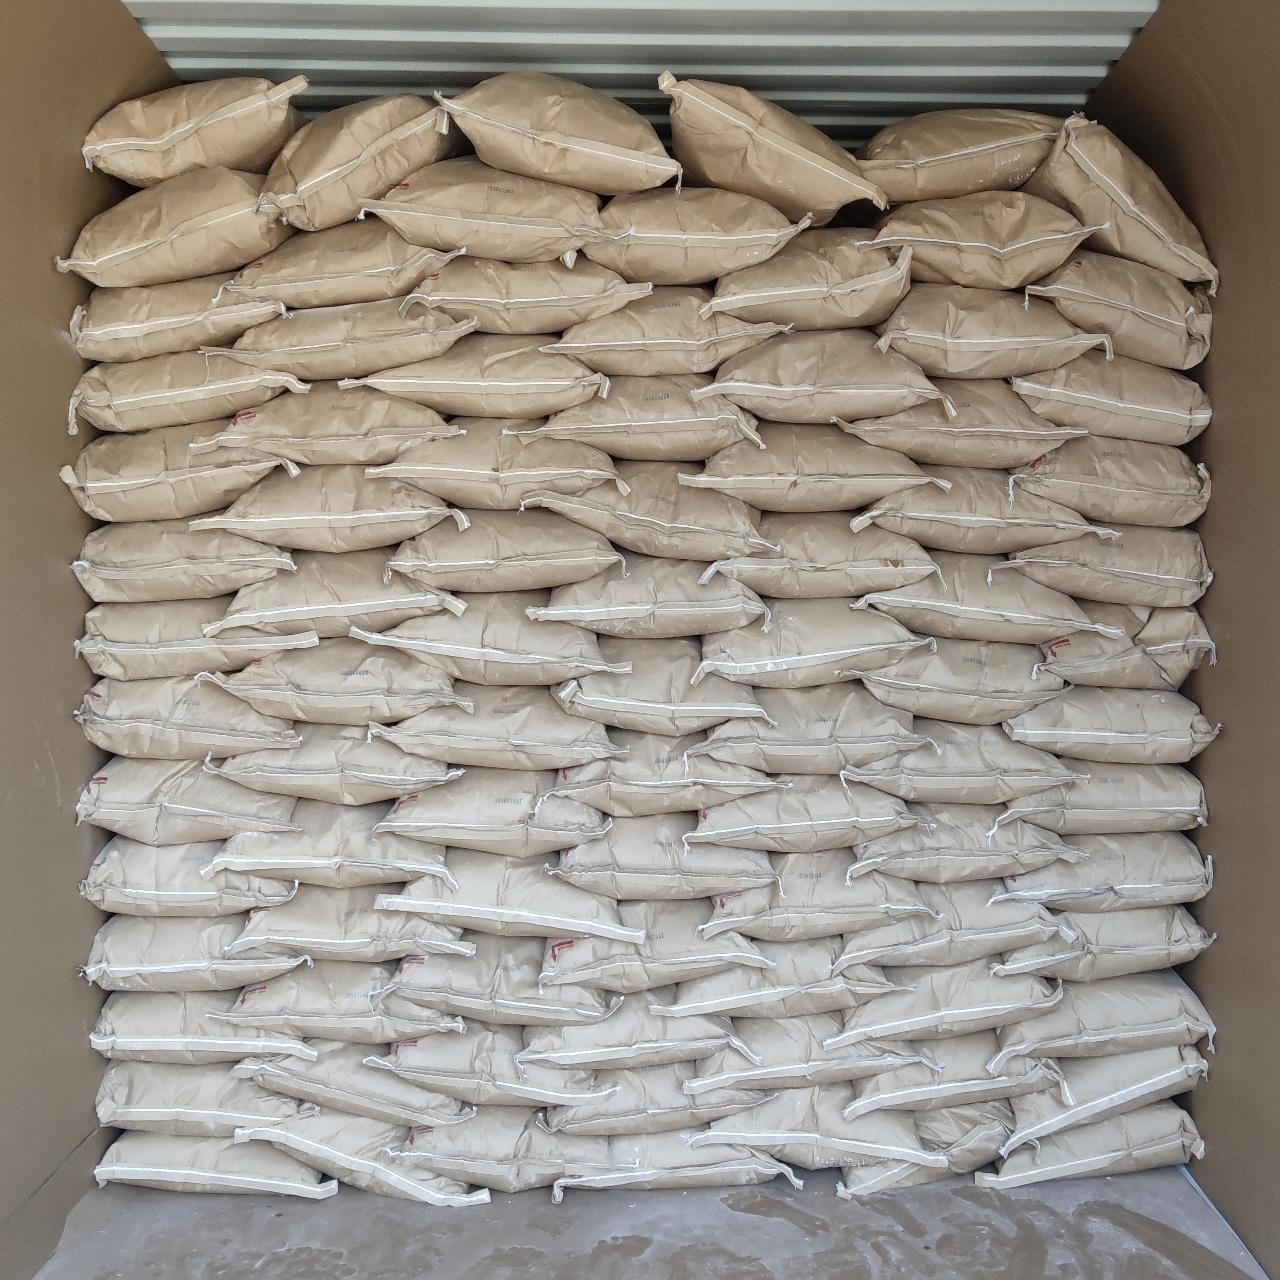sack: (1024, 114, 1214, 290), (663, 74, 886, 222), (442, 72, 676, 195), (57, 168, 288, 286), (260, 96, 464, 229), (692, 329, 956, 423), (236, 1108, 486, 1206), (365, 156, 598, 260), (84, 79, 308, 186), (352, 592, 612, 685), (986, 971, 1216, 1074), (368, 420, 626, 510), (380, 850, 638, 940), (688, 1083, 948, 1172), (526, 462, 765, 558), (60, 422, 298, 518), (1000, 1046, 1207, 1155), (583, 188, 812, 284), (340, 334, 606, 416), (686, 681, 921, 774), (206, 638, 456, 724), (682, 422, 928, 510), (1026, 250, 1212, 366), (198, 467, 456, 550), (856, 552, 1092, 642), (855, 468, 1108, 552), (216, 550, 462, 636), (838, 380, 1082, 467), (870, 192, 1094, 286), (386, 932, 618, 1022), (876, 284, 1107, 374), (554, 638, 770, 734), (546, 288, 788, 374), (230, 1042, 472, 1126), (215, 298, 470, 377), (216, 799, 450, 886), (540, 900, 765, 990), (230, 220, 459, 308), (530, 552, 764, 638), (374, 768, 604, 855), (520, 376, 760, 459), (206, 726, 458, 804), (832, 958, 1060, 1044), (836, 880, 1065, 966), (207, 382, 454, 462), (706, 850, 920, 940), (982, 1099, 1204, 1186), (710, 230, 910, 326), (700, 600, 922, 686), (376, 685, 612, 765), (79, 598, 316, 678), (70, 350, 308, 430), (710, 512, 937, 595), (550, 813, 772, 898), (855, 110, 1058, 202), (844, 719, 1068, 802), (1012, 350, 1210, 444), (374, 1022, 600, 1104), (552, 731, 776, 813), (408, 256, 648, 332), (226, 962, 462, 1040), (224, 884, 470, 958), (660, 938, 898, 1014), (847, 1032, 1062, 1116), (76, 676, 297, 758), (686, 1014, 922, 1090), (392, 510, 618, 590), (1010, 436, 1210, 526), (990, 526, 1214, 606), (518, 988, 748, 1065), (70, 274, 284, 358), (79, 758, 294, 840), (688, 776, 920, 852), (850, 804, 1082, 880), (74, 518, 294, 598), (402, 1107, 612, 1190), (82, 836, 297, 915), (82, 914, 306, 990), (860, 638, 1062, 722), (554, 1128, 798, 1196), (994, 906, 1214, 980), (840, 1102, 1014, 1196), (1000, 835, 1212, 910), (90, 990, 312, 1062), (96, 1132, 334, 1198), (98, 1062, 316, 1133), (1005, 686, 1218, 758), (549, 1064, 765, 1133), (1000, 760, 1206, 832), (1036, 604, 1214, 686)
